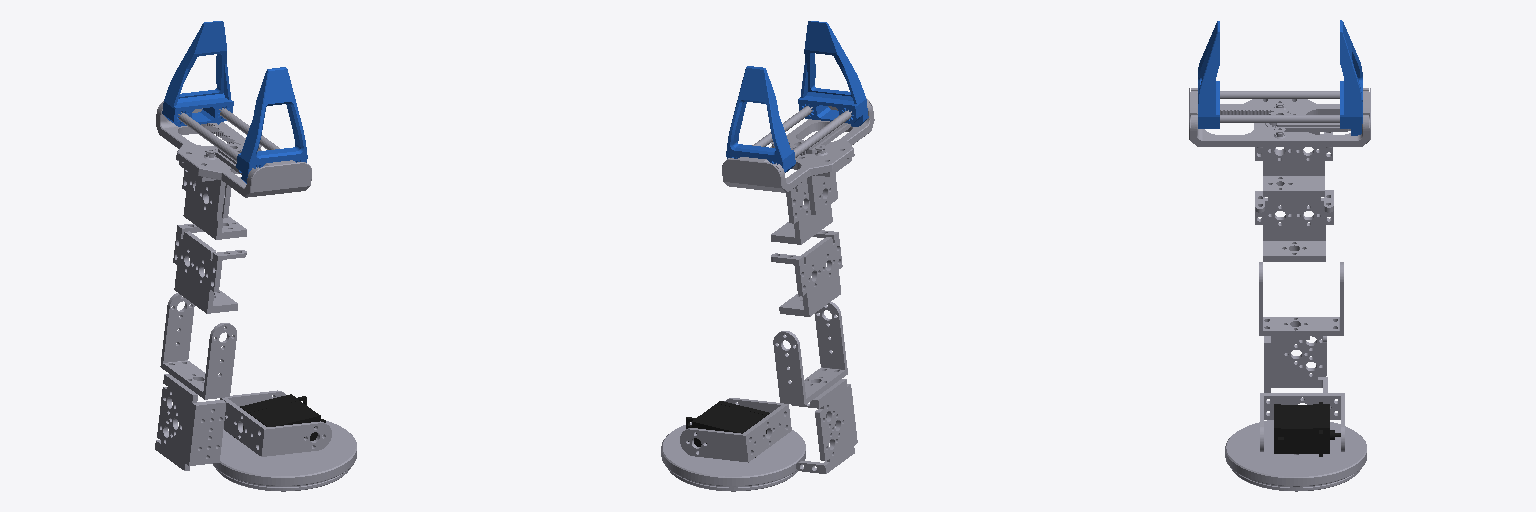
URDF robot description (mahut_kol):
<?xml version="1.0" encoding="utf-8"?>
<!-- MahutKol: MuJoCo Modelinden Birebir Matematiksel Olarak Türetilmiş URDF (5-DOF + Gripper) -->
<robot name="mahut_kol">

  <!-- Materyal Tanımları -->
  <material name="metallic">
    <color rgba="0.65 0.65 0.70 1.0"/>
  </material>
  <material name="dark_gray">
    <color rgba="0.15 0.15 0.15 1.0"/>
  </material>
  <material name="finger_blue">
    <color rgba="0.20 0.45 0.80 1.0"/>
  </material>

  <link name="base_link">
    <inertial>
      <origin xyz="-0.000414 -0.032292 -0.019043" rpy="-3.141593 -1.417373 -0.000000"/>
      <mass value="0.229997"/>
      <inertia ixx="0.000234041" ixy="0" ixz="0" iyy="0.000166984" iyz="0" izz="0.000151837"/>
    </inertial>
    <visual>
      <origin xyz="-0.00365741 -0.0322925 -0.00978" rpy="-0.000000 0.000000 0.000000"/>
      <geometry>
        <mesh filename="../meshes/base_rotate-v1_lazy-susan-100mm-ALT-v1.stl" scale="0.001 0.001 0.001"/>
      </geometry>
      <material name="metallic"/>
    </visual>
    <collision>
      <origin xyz="-0.00365741 -0.0322925 -0.00978" rpy="-0.000000 0.000000 0.000000"/>
      <geometry>
        <mesh filename="../meshes/base_rotate-v1_lazy-susan-100mm-ALT-v1.stl" scale="0.001 0.001 0.001"/>
      </geometry>
    </collision>
    <visual>
      <origin xyz="-0.00365741 -0.0322925 -0.0066177" rpy="-0.000000 0.000000 0.000000"/>
      <geometry>
        <mesh filename="../meshes/base_rotate-v1_lazy-susan-100mm-TASIYICI-v1.stl" scale="0.001 0.001 0.001"/>
      </geometry>
      <material name="metallic"/>
    </visual>
    <collision>
      <origin xyz="-0.00365741 -0.0322925 -0.0066177" rpy="-0.000000 0.000000 0.000000"/>
      <geometry>
        <mesh filename="../meshes/base_rotate-v1_lazy-susan-100mm-TASIYICI-v1.stl" scale="0.001 0.001 0.001"/>
      </geometry>
    </collision>
    <visual>
      <origin xyz="0.00620259 -0.0322925 -0.03605" rpy="1.570796 0.000000 0.000000"/>
      <geometry>
        <mesh filename="../meshes/base_rotate-v1_p_motor-v3.stl" scale="0.001 0.001 0.001"/>
      </geometry>
      <material name="dark_gray"/>
    </visual>
    <collision>
      <origin xyz="0.00620259 -0.0322925 -0.03605" rpy="1.570796 0.000000 0.000000"/>
      <geometry>
        <mesh filename="../meshes/base_rotate-v1_p_motor-v3.stl" scale="0.001 0.001 0.001"/>
      </geometry>
    </collision>
  </link>

  <joint name="joint0" type="revolute">
    <parent link="base_link"/>
    <child link="link0"/>
    <origin xyz="-0.00365706 -0.0322927 -0.00850048" rpy="0.000000 0.000000 0.000000"/>
    <axis xyz="0 -0 1"/>
    <limit lower="-1.5708" upper="1.5708" effort="3.432" velocity="3.0"/>
    <dynamics damping="0.05"/>
  </joint>

  <link name="link0">
    <inertial>
      <origin xyz="-0.000037 0.000855 0.009194" rpy="-1.152379 -1.544985 -1.524350"/>
      <mass value="0.270311"/>
      <inertia ixx="0.00024897" ixy="0" ixz="0" iyy="0.00014361" iyz="0" izz="0.000143379"/>
    </inertial>
    <visual>
      <origin xyz="-0.039103 0.0199002 -0.0361235" rpy="3.141593 -0.000000 3.141593"/>
      <geometry>
        <mesh filename="../meshes/base_rotate-v1_p_rotate-v2.stl" scale="0.001 0.001 0.001"/>
      </geometry>
      <material name="metallic"/>
    </visual>
    <collision>
      <origin xyz="-0.039103 0.0199002 -0.0361235" rpy="3.141593 -0.000000 3.141593"/>
      <geometry>
        <mesh filename="../meshes/base_rotate-v1_p_rotate-v2.stl" scale="0.001 0.001 0.001"/>
      </geometry>
    </collision>
    <visual>
      <origin xyz="-3.56506e-07 2.05536e-07 0.00650048" rpy="3.141593 -0.000000 3.141593"/>
      <geometry>
        <mesh filename="../meshes/base_rotate-v1_lazy-susan-100mm-UST-SERVO-1-v1.stl" scale="0.001 0.001 0.001"/>
      </geometry>
      <material name="metallic"/>
    </visual>
    <collision>
      <origin xyz="-3.56506e-07 2.05536e-07 0.00650048" rpy="3.141593 -0.000000 3.141593"/>
      <geometry>
        <mesh filename="../meshes/base_rotate-v1_lazy-susan-100mm-UST-SERVO-1-v1.stl" scale="0.001 0.001 0.001"/>
      </geometry>
    </collision>
    <visual>
      <origin xyz="-3.56506e-07 0.00550021 0.00850048" rpy="0.000000 0.000000 1.570796"/>
      <geometry>
        <mesh filename="../meshes/part-1-v1.stl" scale="0.001 0.001 0.001"/>
      </geometry>
      <material name="metallic"/>
    </visual>
    <collision>
      <origin xyz="-3.56506e-07 0.00550021 0.00850048" rpy="0.000000 0.000000 1.570796"/>
      <geometry>
        <mesh filename="../meshes/part-1-v1.stl" scale="0.001 0.001 0.001"/>
      </geometry>
    </collision>
    <visual>
      <origin xyz="-3.56148e-07 0.00375021 0.0205005" rpy="-3.141593 0.000000 3.141593"/>
      <geometry>
        <mesh filename="../meshes/motor-1-v1.stl" scale="0.001 0.001 0.001"/>
      </geometry>
      <material name="dark_gray"/>
    </visual>
    <collision>
      <origin xyz="-3.56148e-07 0.00375021 0.0205005" rpy="-3.141593 0.000000 3.141593"/>
      <geometry>
        <mesh filename="../meshes/motor-1-v1.stl" scale="0.001 0.001 0.001"/>
      </geometry>
    </collision>
  </link>

  <joint name="joint1" type="revolute">
    <parent link="link0"/>
    <child link="link1"/>
    <origin xyz="0.00986006 0.0312997 0.0205005" rpy="0.000000 -0.400000 0.000000"/>
    <axis xyz="-0 1 0"/>
    <limit lower="0" upper="3.14159" effort="3.432" velocity="3.0"/>
    <dynamics damping="0.05"/>
  </joint>

  <link name="link1">
    <inertial>
      <origin xyz="-0.035161 -0.017556 0.020300" rpy="3.141592 -1.047190 0.000000"/>
      <mass value="0.031989"/>
      <inertia ixx="4.68378e-05" ixy="0" ixz="0" iyy="3.10903e-05" iyz="0" izz="1.77253e-05"/>
    </inertial>
    <visual>
      <origin xyz="-0.0438143 -0.0361235 0.00231742" rpy="-1.570796 -0.523599 3.141593"/>
      <geometry>
        <mesh filename="../meshes/part-2-v1.stl" scale="0.001 0.001 0.001"/>
      </geometry>
      <material name="metallic"/>
    </visual>
    <collision>
      <origin xyz="-0.0438143 -0.0361235 0.00231742" rpy="-1.570796 -0.523599 3.141593"/>
      <geometry>
        <mesh filename="../meshes/part-2-v1.stl" scale="0.001 0.001 0.001"/>
      </geometry>
    </collision>
    <visual>
      <origin xyz="-0.033429 -0.0249995 0.0193" rpy="-3.141593 1.047198 3.141593"/>
      <geometry>
        <mesh filename="../meshes/part-3-v1.stl" scale="0.001 0.001 0.001"/>
      </geometry>
      <material name="metallic"/>
    </visual>
    <collision>
      <origin xyz="-0.033429 -0.0249995 0.0193" rpy="-3.141593 1.047198 3.141593"/>
      <geometry>
        <mesh filename="../meshes/part-3-v1.stl" scale="0.001 0.001 0.001"/>
      </geometry>
    </collision>
    <visual>
      <origin xyz="-0.0368931 -0.0249995 0.0213" rpy="-0.000000 -1.047198 -0.000000"/>
      <geometry>
        <mesh filename="../meshes/part-4-v1.stl" scale="0.001 0.001 0.001"/>
      </geometry>
      <material name="metallic"/>
    </visual>
    <collision>
      <origin xyz="-0.0368931 -0.0249995 0.0213" rpy="-0.000000 -1.047198 -0.000000"/>
      <geometry>
        <mesh filename="../meshes/part-4-v1.stl" scale="0.001 0.001 0.001"/>
      </geometry>
    </collision>
    <visual>
      <origin xyz="-0.0680043 -0.0361235 0.0844139" rpy="1.570796 -1.047197 0.000000"/>
      <geometry>
        <mesh filename="../meshes/part-5-v1.stl" scale="0.001 0.001 0.001"/>
      </geometry>
      <material name="metallic"/>
    </visual>
    <collision>
      <origin xyz="-0.0680043 -0.0361235 0.0844139" rpy="1.570796 -1.047197 0.000000"/>
      <geometry>
        <mesh filename="../meshes/part-5-v1.stl" scale="0.001 0.001 0.001"/>
      </geometry>
    </collision>
  </link>

  <joint name="joint2" type="revolute">
    <parent link="link1"/>
    <child link="link2"/>
    <origin xyz="-0.070322 7.97973e-17 0.0406" rpy="0.000000 -0.872700 0.000000"/>
    <axis xyz="0 -1 -0"/>
    <limit lower="-1" upper="1.5708" effort="3.432" velocity="3.0"/>
    <dynamics damping="0.05"/>
  </joint>

  <link name="link2">
    <inertial>
      <origin xyz="0.017375 -0.027228 0.004102" rpy="0.388020 -1.404478 3.014955"/>
      <mass value="0.107791"/>
      <inertia ixx="8.36805e-05" ixy="0" ixz="0" iyy="6.6594e-05" iyz="0" izz="2.58149e-05"/>
    </inertial>
    <visual>
      <origin xyz="0.00971053 -0.0275495 0.00171217" rpy="0.000000 -0.174533 -0.000000"/>
      <geometry>
        <mesh filename="../meshes/motor-2-v1.stl" scale="0.001 0.001 0.001"/>
      </geometry>
      <material name="dark_gray"/>
    </visual>
    <collision>
      <origin xyz="0.00971053 -0.0275495 0.00171217" rpy="0.000000 -0.174533 -0.000000"/>
      <geometry>
        <mesh filename="../meshes/motor-2-v1.stl" scale="0.001 0.001 0.001"/>
      </geometry>
    </collision>
    <visual>
      <origin xyz="0.00762675 -0.0257995 0.0135299" rpy="2.967060 0.000000 1.570796"/>
      <geometry>
        <mesh filename="../meshes/part-6-v1.stl" scale="0.001 0.001 0.001"/>
      </geometry>
      <material name="metallic"/>
    </visual>
    <collision>
      <origin xyz="0.00762675 -0.0257995 0.0135299" rpy="2.967060 0.000000 1.570796"/>
      <geometry>
        <mesh filename="../meshes/part-6-v1.stl" scale="0.001 0.001 0.001"/>
      </geometry>
    </collision>
    <visual>
      <origin xyz="0.0387624 -0.0257995 0.00683479" rpy="0.000000 1.396265 0.000000"/>
      <geometry>
        <mesh filename="../meshes/part-7-v1.stl" scale="0.001 0.001 0.001"/>
      </geometry>
      <material name="metallic"/>
    </visual>
    <collision>
      <origin xyz="0.0387624 -0.0257995 0.00683479" rpy="0.000000 1.396265 0.000000"/>
      <geometry>
        <mesh filename="../meshes/part-7-v1.stl" scale="0.001 0.001 0.001"/>
      </geometry>
    </collision>
    <visual>
      <origin xyz="0.0450366 -0.0369235 -0.0120628" rpy="-1.570796 0.174533 -3.141593"/>
      <geometry>
        <mesh filename="../meshes/part-8-v1.stl" scale="0.001 0.001 0.001"/>
      </geometry>
      <material name="metallic"/>
    </visual>
    <collision>
      <origin xyz="0.0450366 -0.0369235 -0.0120628" rpy="-1.570796 0.174533 -3.141593"/>
      <geometry>
        <mesh filename="../meshes/part-8-v1.stl" scale="0.001 0.001 0.001"/>
      </geometry>
    </collision>
  </link>

  <joint name="joint3" type="revolute">
    <parent link="link2"/>
    <child link="link3"/>
    <origin xyz="0.08009 -0.0008 0.014325" rpy="0.000000 0.000000 0.000000"/>
    <axis xyz="0 -1 0"/>
    <limit lower="-3.141593" upper="0.0" effort="3.432" velocity="3.0"/>
    <dynamics damping="0.05"/>
  </joint>

  <link name="link3">
    <inertial>
      <origin xyz="0.016006 -0.030335 0.003986" rpy="0.042312 -1.399106 3.037966"/>
      <mass value="0.182423"/>
      <inertia ixx="0.000183025" ixy="0" ixz="0" iyy="0.000162246" iyz="0" izz="3.61311e-05"/>
    </inertial>
    <visual>
      <origin xyz="-0.00971065 -0.0275495 -0.0017122" rpy="3.141593 0.174533 3.141593"/>
      <geometry>
        <mesh filename="../meshes/motor-3-v1.stl" scale="0.001 0.001 0.001"/>
      </geometry>
      <material name="dark_gray"/>
    </visual>
    <collision>
      <origin xyz="-0.00971065 -0.0275495 -0.0017122" rpy="3.141593 0.174533 3.141593"/>
      <geometry>
        <mesh filename="../meshes/motor-3-v1.stl" scale="0.001 0.001 0.001"/>
      </geometry>
    </collision>
    <visual>
      <origin xyz="-0.0117944 -0.0257995 0.0101056" rpy="2.967060 0.000000 1.570796"/>
      <geometry>
        <mesh filename="../meshes/part-9-v1.stl" scale="0.001 0.001 0.001"/>
      </geometry>
      <material name="metallic"/>
    </visual>
    <collision>
      <origin xyz="-0.0117944 -0.0257995 0.0101056" rpy="2.967060 0.000000 1.570796"/>
      <geometry>
        <mesh filename="../meshes/part-9-v1.stl" scale="0.001 0.001 0.001"/>
      </geometry>
    </collision>
    <visual>
      <origin xyz="0.0428624 -0.0317995 0.0197431" rpy="-3.141593 -0.174533 -0.000000"/>
      <geometry>
        <mesh filename="../meshes/part-10-v1.stl" scale="0.001 0.001 0.001"/>
      </geometry>
      <material name="metallic"/>
    </visual>
    <collision>
      <origin xyz="0.0428624 -0.0317995 0.0197431" rpy="-3.141593 -0.174533 -0.000000"/>
      <geometry>
        <mesh filename="../meshes/part-10-v1.stl" scale="0.001 0.001 0.001"/>
      </geometry>
    </collision>
    <visual>
      <origin xyz="0.0432228 -0.0317995 0.00762139" rpy="2.967060 0.000000 1.570796"/>
      <geometry>
        <mesh filename="../meshes/motor-4-v1.stl" scale="0.001 0.001 0.001"/>
      </geometry>
      <material name="dark_gray"/>
    </visual>
    <collision>
      <origin xyz="0.0432228 -0.0317995 0.00762139" rpy="2.967060 0.000000 1.570796"/>
      <geometry>
        <mesh filename="../meshes/motor-4-v1.stl" scale="0.001 0.001 0.001"/>
      </geometry>
    </collision>
  </link>

  <joint name="joint4" type="revolute">
    <parent link="link3"/>
    <child link="link4"/>
    <origin xyz="0.070354 -0.04166 0.012405" rpy="0.000000 0.000000 0.000000"/>
    <axis xyz="0.984808 0 0.173648"/>
    <limit lower="-1.570796" upper="1.570796" effort="3.432" velocity="3.0"/>
    <dynamics damping="0.05"/>
  </joint>

  <link name="link4">
    <inertial>
      <origin xyz="0.034345 0.005594 0.007971" rpy="-1.331954 -1.365499 3.099090"/>
      <mass value="0.150151"/>
      <inertia ixx="0.000164398" ixy="0" ixz="0" iyy="0.000125222" iyz="0" izz="7.81032e-05"/>
    </inertial>
    <visual>
      <origin xyz="-0.0423651 0.0199005 0.0322361" rpy="3.141593 -1.396265 -3.141593"/>
      <geometry>
        <mesh filename="../meshes/part-11-v1.stl" scale="0.001 0.001 0.001"/>
      </geometry>
      <material name="metallic"/>
    </visual>
    <collision>
      <origin xyz="-0.0423651 0.0199005 0.0322361" rpy="3.141593 -1.396265 -3.141593"/>
      <geometry>
        <mesh filename="../meshes/part-11-v1.stl" scale="0.001 0.001 0.001"/>
      </geometry>
    </collision>
    <visual>
      <origin xyz="0.0255432 0.00960048 0.0163848" rpy="-3.141593 -0.174533 -0.000000"/>
      <geometry>
        <mesh filename="../meshes/part-12-v1.stl" scale="0.001 0.001 0.001"/>
      </geometry>
      <material name="metallic"/>
    </visual>
    <collision>
      <origin xyz="0.0255432 0.00960048 0.0163848" rpy="-3.141593 -0.174533 -0.000000"/>
      <geometry>
        <mesh filename="../meshes/part-12-v1.stl" scale="0.001 0.001 0.001"/>
      </geometry>
    </collision>
    <visual>
      <origin xyz="0.0259035 0.00960048 0.0042631" rpy="2.967060 0.000000 1.570796"/>
      <geometry>
        <mesh filename="../meshes/motor-5-v1.stl" scale="0.001 0.001 0.001"/>
      </geometry>
      <material name="dark_gray"/>
    </visual>
    <collision>
      <origin xyz="0.0259035 0.00960048 0.0042631" rpy="2.967060 0.000000 1.570796"/>
      <geometry>
        <mesh filename="../meshes/motor-5-v1.stl" scale="0.001 0.001 0.001"/>
      </geometry>
    </collision>
    <visual>
      <origin xyz="0.0570843 -0.000349522 0.010269" rpy="1.396263 0.000000 1.570796"/>
      <geometry>
        <mesh filename="../meshes/Gripper-v2_RB9.01.062.010-Main-frame_125-follower.stl" scale="0.001 0.001 0.001"/>
      </geometry>
      <material name="metallic"/>
    </visual>
    <collision>
      <origin xyz="0.0570843 -0.000349522 0.010269" rpy="1.396263 0.000000 1.570796"/>
      <geometry>
        <mesh filename="../meshes/Gripper-v2_RB9.01.062.010-Main-frame_125-follower.stl" scale="0.001 0.001 0.001"/>
      </geometry>
    </collision>
    <visual>
      <origin xyz="0.0642989 -0.000259525 0.0280925" rpy="1.697467 0.000000 1.570796"/>
      <geometry>
        <mesh filename="../meshes/Gripper-v2_Rod-d6_125.stl" scale="0.001 0.001 0.001"/>
      </geometry>
      <material name="metallic"/>
    </visual>
    <visual>
      <origin xyz="0.0698557 -0.000259525 -0.00342131" rpy="-2.046534 0.000000 1.570796"/>
      <geometry>
        <mesh filename="../meshes/Gripper-v2_Rod-d6_125.stl" scale="0.001 0.001 0.001"/>
      </geometry>
      <material name="metallic"/>
    </visual>
    <visual>
      <origin xyz="0.0603549 -0.000259525 -0.00712741" rpy="2.948582 -0.438733 1.653629"/>
      <geometry>
        <mesh filename="../meshes/Gripper-v2_Bearing_MF106-10å6å3.stl" scale="0.001 0.001 0.001"/>
      </geometry>
      <material name="metallic"/>
    </visual>
    <visual>
      <origin xyz="0.0541035 -0.000259525 0.0283257" rpy="0.193011 0.438733 -1.487963"/>
      <geometry>
        <mesh filename="../meshes/Gripper-v2_Bearing_MF106-10å6å3.stl" scale="0.001 0.001 0.001"/>
      </geometry>
      <material name="metallic"/>
    </visual>
    <visual>
      <origin xyz="0.0631123 -0.000259525 -0.0066412" rpy="2.142932 0.174533 -3.141593"/>
      <geometry>
        <mesh filename="../meshes/Gripper-v2_socket-countersunk-head-screw_din_DIN-7991---M4-x-8-----8N.stl" scale="0.001 0.001 0.001"/>
      </geometry>
      <material name="metallic"/>
    </visual>
    <visual>
      <origin xyz="0.056861 -0.000259525 0.0288119" rpy="-0.998661 0.174533 -3.141593"/>
      <geometry>
        <mesh filename="../meshes/Gripper-v2_socket-countersunk-head-screw_din_DIN-7991---M4-x-8-----8N.stl" scale="0.001 0.001 0.001"/>
      </geometry>
      <material name="metallic"/>
    </visual>
  </link>

  <joint name="gripper_gear_fixed_joint" type="fixed">
    <parent link="link4"/>
    <child link="gripper_gear_link"/>
    <origin xyz="0.053035 -0.00026 0.009047" rpy="0.000000 0.000000 0.000000"/>
  </joint>

  <link name="gripper_gear_link">
    <inertial>
      <origin xyz="-0.000534 0.000000 0.000079" rpy="-0.000757 -0.142011 0.000002"/>
      <mass value="0.007520"/>
      <inertia ixx="3.56238e-07" ixy="0" ixz="0" iyy="2.18627e-07" iyz="0" izz="2.17681e-07"/>
    </inertial>
    <visual>
      <origin xyz="-0.0423653 0.0199005 0.0322358" rpy="3.141593 -1.396265 -3.141593"/>
      <geometry>
        <mesh filename="../meshes/part-13-v1.stl" scale="0.001 0.001 0.001"/>
      </geometry>
      <material name="metallic"/>
    </visual>
    <visual>
      <origin xyz="0.00143785 4.75305e-07 0.00106611" rpy="1.642951 -0.174533 -0.000000"/>
      <geometry>
        <mesh filename="../meshes/Gripper-v2_RB9.01.062.040-Gear-for-gripper_ISO---Spur-gear-0.8M-18T-20PA-5FW----S18B10H8L6.0S1.stl" scale="0.001 0.001 0.001"/>
      </geometry>
      <material name="metallic"/>
    </visual>
  </link>

  <joint name="finger_left" type="prismatic">
    <parent link="link4"/>
    <child link="finger_left_link"/>
    <origin xyz="0.0670773 0.0517405 0.0123356" rpy="0.000000 0.000000 0.000000"/>
    <axis xyz="0 -1 0"/>
    <limit lower="0.0" upper="0.042" effort="15.0" velocity="0.2"/>
    <dynamics damping="10.0"/>
  </joint>

  <link name="finger_left_link">
    <inertial>
      <origin xyz="0.015083 -0.004576 0.001090" rpy="1.277324 0.184241 1.548506"/>
      <mass value="0.018250"/>
      <inertia ixx="1.2328e-05" ixy="0" ixz="0" iyy="1.08296e-05" iyz="0" izz="4.72073e-06"/>
    </inertial>
    <visual>
      <origin xyz="0 0 0" rpy="1.570796 1.396263 0.000000"/>
      <geometry>
        <mesh filename="../meshes/Gripper-v2_RB9.01.062.020-Clamp.stl" scale="0.001 0.001 0.001"/>
      </geometry>
      <material name="finger_blue"/>
    </visual>
    <collision>
      <origin xyz="0 0 0" rpy="1.570796 1.396263 0.000000"/>
      <geometry>
        <mesh filename="../meshes/Gripper-v2_RB9.01.062.020-Clamp.stl" scale="0.001 0.001 0.001"/>
      </geometry>
    </collision>
    <visual>
      <origin xyz="-0.00880619 0.007 -0.00764533" rpy="-1.570796 -0.174533 0.000000"/>
      <geometry>
        <mesh filename="../meshes/Gripper-v2_RB9.01.062.030-Gear-rack_m0.8.stl" scale="0.001 0.001 0.001"/>
      </geometry>
      <material name="metallic"/>
    </visual>
  </link>

  <joint name="finger_right" type="prismatic">
    <parent link="link4"/>
    <child link="finger_right_link"/>
    <origin xyz="0.0670773 -0.0522595 0.0123356" rpy="0.000000 0.000000 0.000000"/>
    <axis xyz="0 1 0"/>
    <limit lower="0.0" upper="0.042" effort="15.0" velocity="0.2"/>
    <dynamics damping="10.0"/>
  </joint>

  <link name="finger_right_link">
    <inertial>
      <origin xyz="0.014546 0.004576 0.004135" rpy="1.509268 0.180627 1.528019"/>
      <mass value="0.018250"/>
      <inertia ixx="1.2328e-05" ixy="0" ixz="0" iyy="1.08296e-05" iyz="0" izz="4.72073e-06"/>
    </inertial>
    <visual>
      <origin xyz="0 0 0" rpy="1.570796 -1.396263 3.141593"/>
      <geometry>
        <mesh filename="../meshes/Gripper-v2_RB9.01.062.020-Clamp.stl" scale="0.001 0.001 0.001"/>
      </geometry>
      <material name="finger_blue"/>
    </visual>
    <collision>
      <origin xyz="0 0 0" rpy="1.570796 -1.396263 3.141593"/>
      <geometry>
        <mesh filename="../meshes/Gripper-v2_RB9.01.062.020-Clamp.stl" scale="0.001 0.001 0.001"/>
      </geometry>
    </collision>
    <visual>
      <origin xyz="-0.01089 -0.007 0.00417236" rpy="1.570796 -0.174533 0.000000"/>
      <geometry>
        <mesh filename="../meshes/Gripper-v2_RB9.01.062.030-Gear-rack_m0.8.stl" scale="0.001 0.001 0.001"/>
      </geometry>
      <material name="metallic"/>
    </visual>
  </link>

  <!-- TCP (Tool Center Point / Gripper Center) -->
  <link name="link_gripper_center"/>
  <joint name="joint_gripper_center" type="fixed">
    <parent link="link4"/>
    <child link="link_gripper_center"/>
    <origin xyz="0.084616 -0.000260 0.015428" rpy="0 0 0"/>
  </joint>

</robot>

--- What the picture shows (computed from the rendered views, not written in the file) ---
The picture shows the robot from 3 angles, left to right: view 1: azimuth 30°, elevation 25°; view 2: azimuth 150°, elevation 25°; view 3: azimuth 270°, elevation 25°; orthographic projection.
Robot: mahut_kol — 10 links, 9 joints (5 revolute, 2 prismatic, 2 fixed); root link base_link; default pose: every joint at zero.
Links seen in each view (by area): view 1: link2, link4, link0, finger_left_link, link3, link1, finger_right_link, base_link; view 2: link4, link2, link0, finger_right_link, link1, link3, finger_left_link, base_link; view 3: link4, link0, link2, link3, finger_left_link, finger_right_link, link1, base_link.
Boxes of the visible links, x1=… form: link2: x1=155, y1=293, x2=236, y2=470; link4: x1=156, y1=101, x2=311, y2=239; link0: x1=213, y1=394, x2=356, y2=485; finger_left_link: x1=162, y1=21, x2=243, y2=145; link3: x1=173, y1=224, x2=246, y2=313; link1: x1=220, y1=390, x2=331, y2=456; finger_right_link: x1=215, y1=67, x2=307, y2=183; base_link: x1=216, y1=468, x2=350, y2=491; link4: x1=722, y1=98, x2=874, y2=244; link2: x1=773, y1=302, x2=857, y2=473; link0: x1=661, y1=401, x2=805, y2=486; finger_right_link: x1=798, y1=21, x2=868, y2=153; link1: x1=680, y1=398, x2=791, y2=462; link3: x1=771, y1=230, x2=842, y2=316; finger_left_link: x1=726, y1=66, x2=795, y2=172; base_link: x1=668, y1=469, x2=797, y2=491; link4: x1=1189, y1=88, x2=1370, y2=196; link0: x1=1225, y1=402, x2=1366, y2=486; link2: x1=1259, y1=262, x2=1343, y2=392; link3: x1=1255, y1=190, x2=1333, y2=261; finger_left_link: x1=1276, y1=20, x2=1362, y2=135; finger_right_link: x1=1198, y1=21, x2=1283, y2=128; link1: x1=1260, y1=393, x2=1344, y2=451; base_link: x1=1232, y1=468, x2=1361, y2=491.
Bounding box of the posed robot: 0.1368 × 0.128 × 0.324 m (x, y, z).
Meshes: 30 distinct files referenced, 20 mesh visuals loaded (16 binary STL); not drawn: 15 (reference not matched to a file when rendering).
